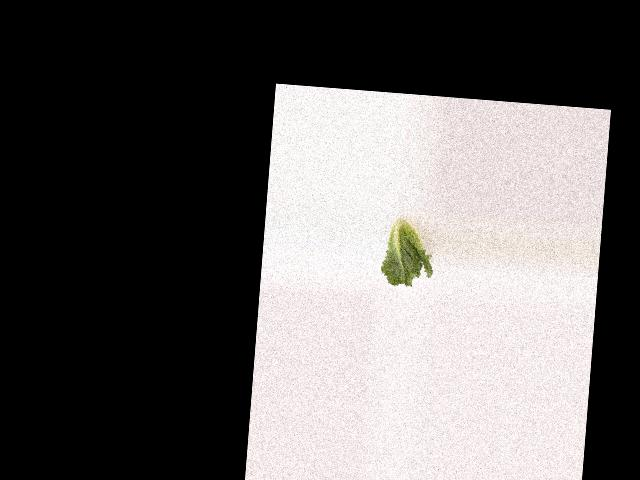lettuce: (378, 210, 434, 290)
